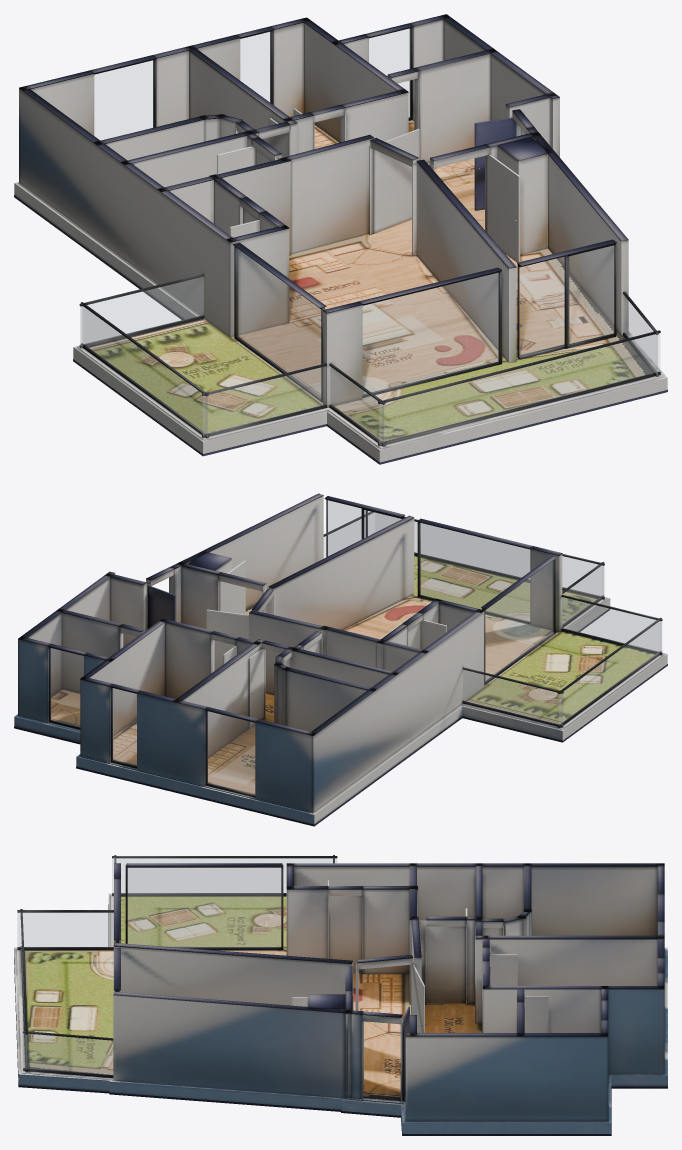
3 views of the same model, one above another, from view 1: azimuth 30°, elevation 25°; view 2: azimuth 150°, elevation 25°; view 3: azimuth 270°, elevation 25° (orthographic). The views are drawn at different scales.
Parts seen in each view (by area): view 1: plan, glass0_m, railg1_m, glass2_m, glass1_m, railg3_m, railg5_m, railg4_m, glass3_m, railg2_m, glass4_m, glass5_m (+1 smaller); view 2: plan, glass0_m, glass1_m, railg1_m, glass3_m, railg3_m, railg4_m, railg5_m, glass5_m, glass2_m, glass4_m, railg2_m (+1 smaller); view 3: plan, glass1_m, railg3_m, railg2_m, railg0_m.
Part boxes in pixels (x1,y1,x2,y2): plan: (14, 14, 667, 464); glass0_m: (363, 273, 498, 394); railg1_m: (379, 333, 659, 442); glass2_m: (519, 245, 613, 356); glass1_m: (237, 248, 320, 397); railg3_m: (82, 306, 207, 435); railg5_m: (202, 366, 325, 434); railg4_m: (80, 277, 203, 345); glass3_m: (94, 60, 153, 140); railg2_m: (330, 367, 384, 443); glass4_m: (240, 32, 270, 102); glass5_m: (369, 28, 410, 117); plan: (14, 493, 667, 826); glass0_m: (420, 523, 529, 621); glass1_m: (485, 561, 553, 680); railg1_m: (375, 513, 604, 596); glass3_m: (207, 711, 254, 794); railg3_m: (559, 621, 660, 725); railg4_m: (463, 670, 562, 724); railg5_m: (562, 597, 661, 652); glass5_m: (50, 648, 83, 727); glass2_m: (326, 500, 401, 556); glass4_m: (112, 688, 136, 765); railg2_m: (563, 566, 602, 624); plan: (14, 855, 667, 1135); glass1_m: (128, 868, 280, 947); railg3_m: (112, 858, 336, 892); railg2_m: (17, 913, 113, 946); railg0_m: (23, 1033, 112, 1075).
Size of the model in its own units: 13.12 by 2.62 by 15.79.
Materials: 2 (1 with a texture image).
